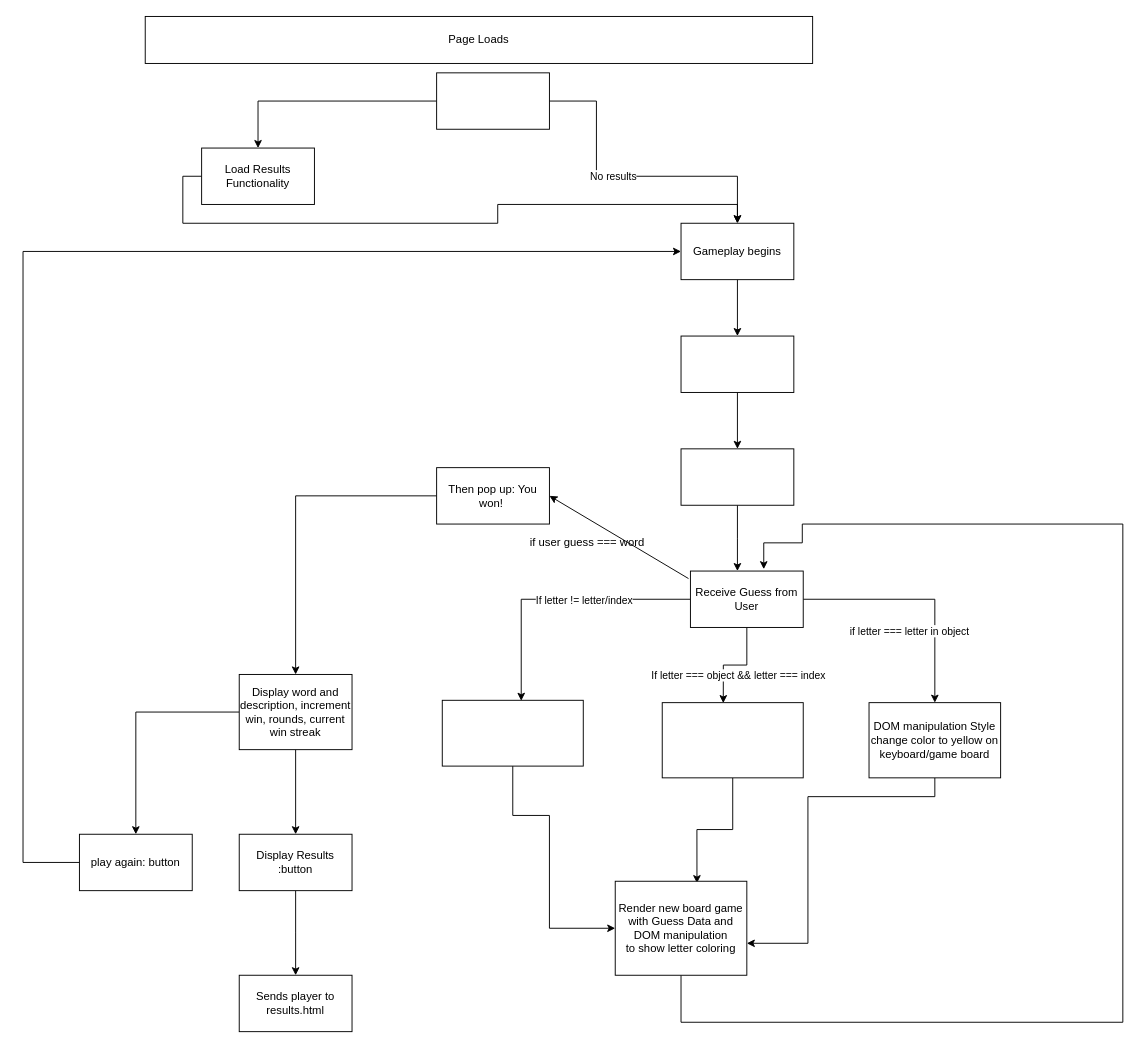
Some shapes in this 1147 by 1048 pixel diagram are drawn without their labels. Each missing label, with the centre of its shape:
Check Local Storage for Results: [492,100]
DOM manipulation Style change color to green on keyboard/game board: [732,740]
DOM manipulation Style change color to grey on keyboard/game board: [512,732]
Instantiate Objects + Increment round counter: [737,363]
Word Constructor: [737,476]
